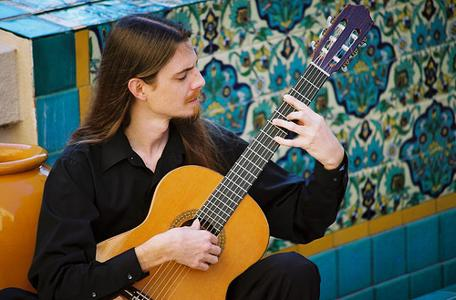person: (28, 14, 350, 300)
